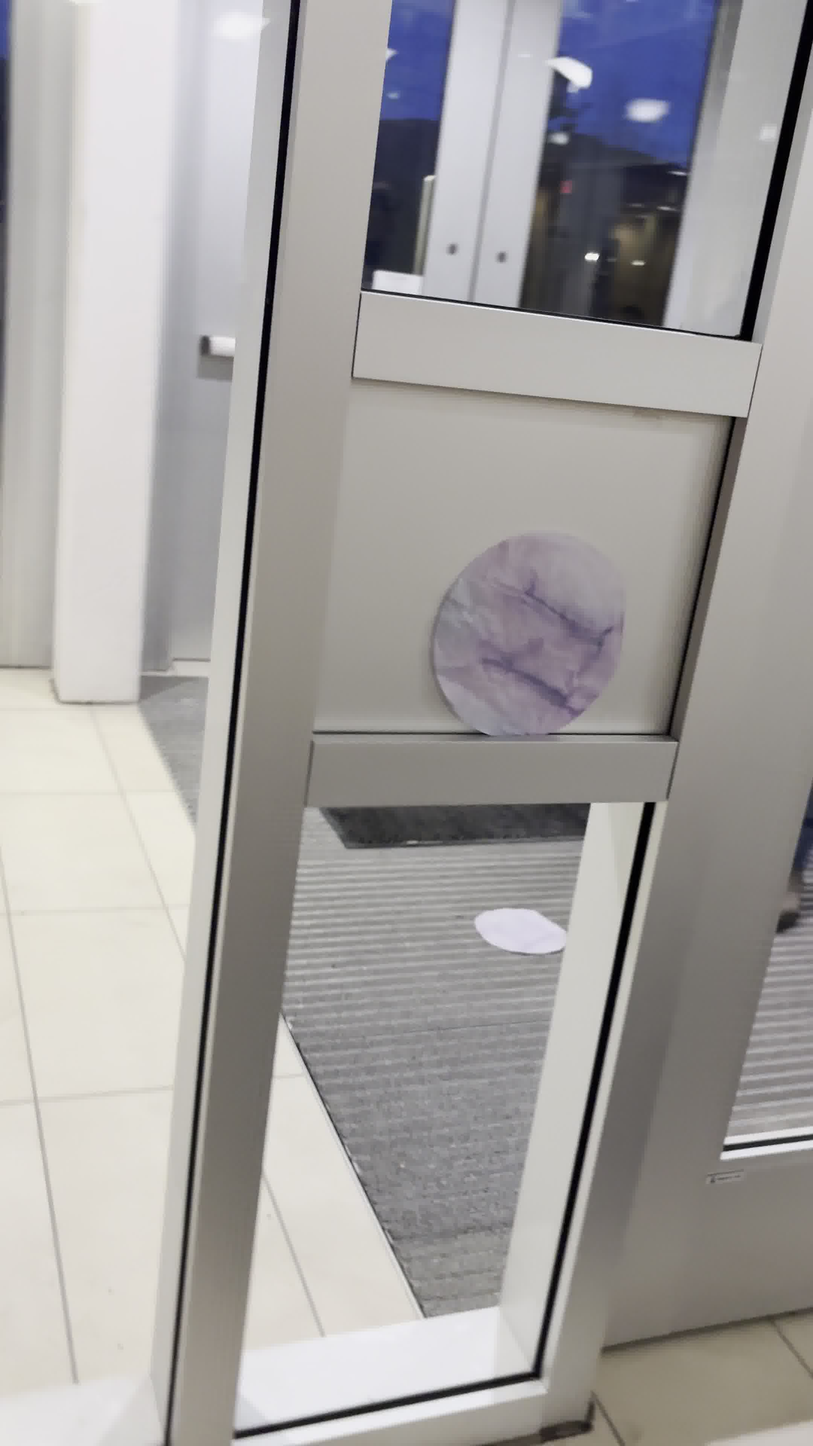Target: (428, 529, 628, 740)
